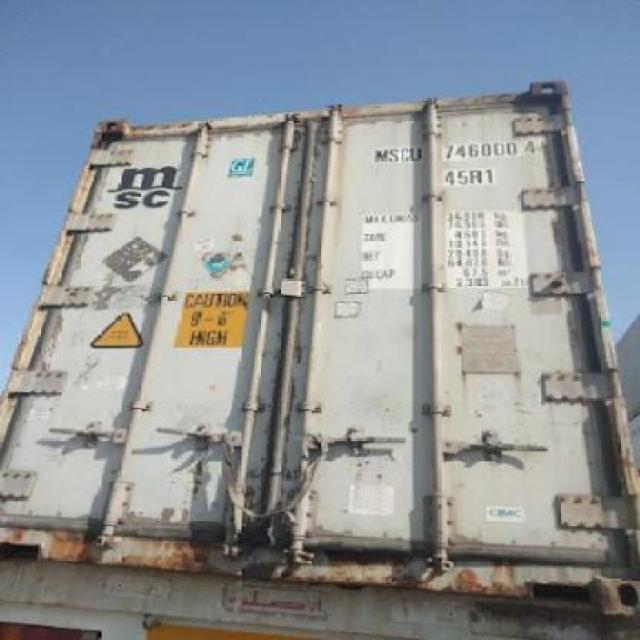ISO: (442, 166, 496, 186)
container_number: (378, 140, 550, 162)
